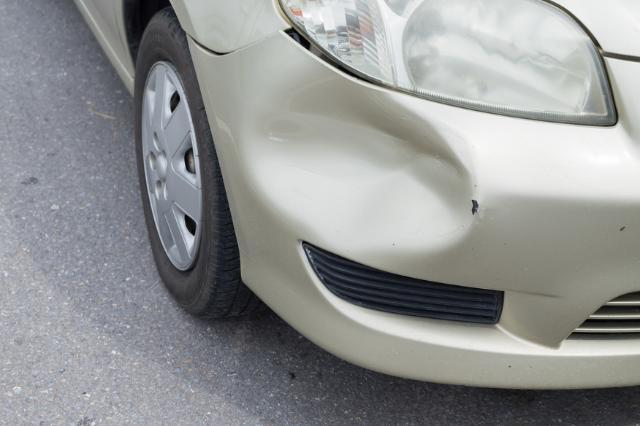Bumper: (241, 70, 486, 279)
